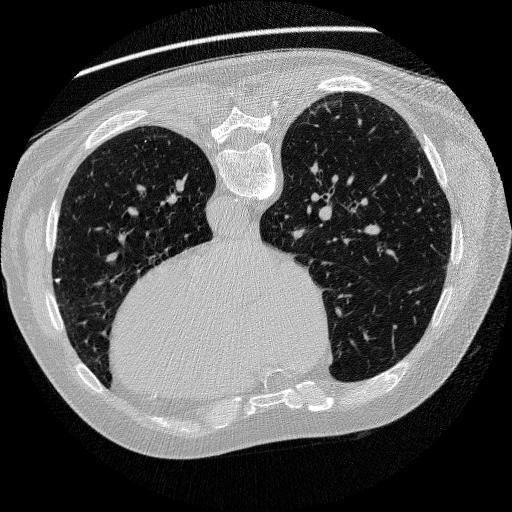nodule: (53, 277, 64, 288)
